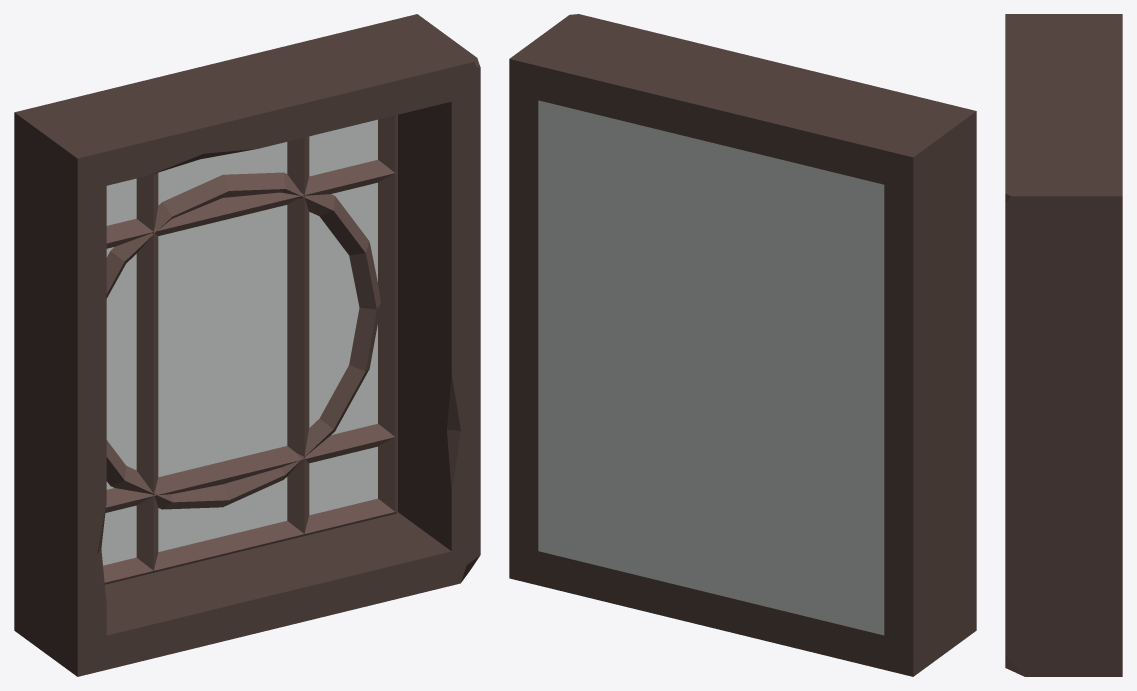
Rendered from SM_Env_Window_15.fbx.
3 views of the same model, side by side, from view 1: azimuth 30°, elevation 25°; view 2: azimuth 150°, elevation 25°; view 3: azimuth 270°, elevation 25° (orthographic). The views are drawn at different scales.
Parts seen in each view (by area): view 1: SM_Env_Window_15; view 2: SM_Env_Window_15; view 3: SM_Env_Window_15.
Part boxes in pixels (box(x1,y1,x2,y2)): SM_Env_Window_15: box(14, 14, 480, 676); SM_Env_Window_15: box(509, 14, 976, 676); SM_Env_Window_15: box(1005, 14, 1122, 676).
Size of the model in its own units: 80.71 by 99.18 by 21.94.
1 material, 1 textured.
